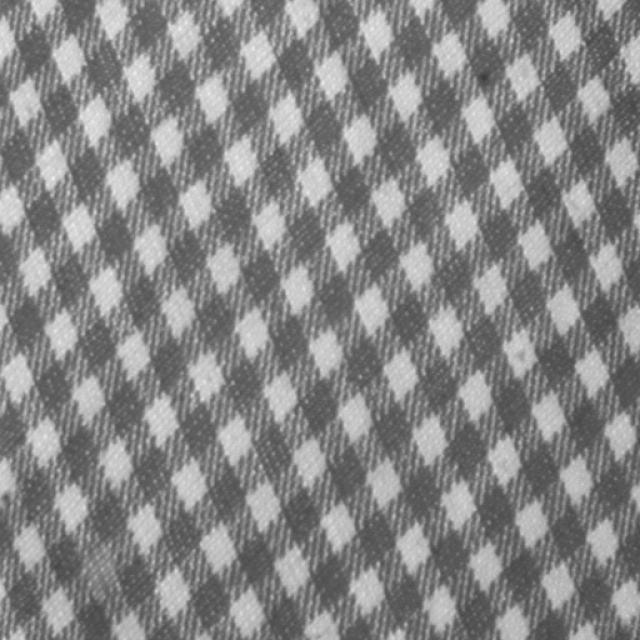Stain-Defect: (78, 530, 140, 608)
